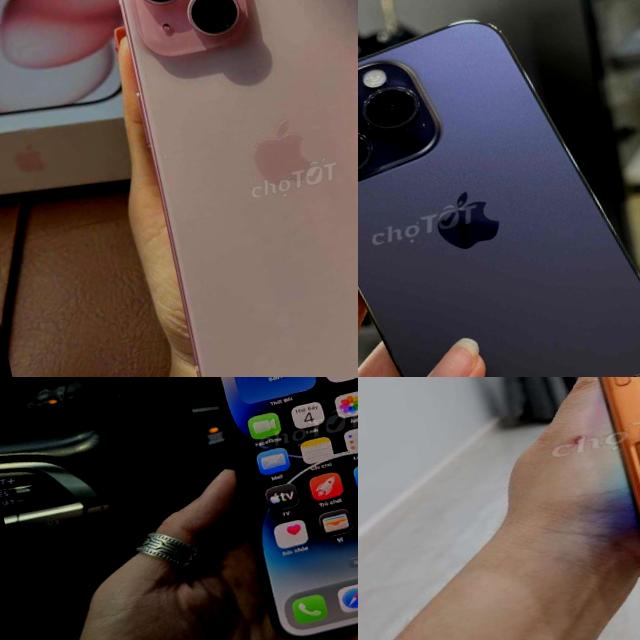gen_14: (358, 0, 640, 377), (187, 377, 358, 640)
gen_15: (83, 0, 358, 377)
gen_17: (534, 377, 640, 610)
scratch: (358, 117, 382, 189)
